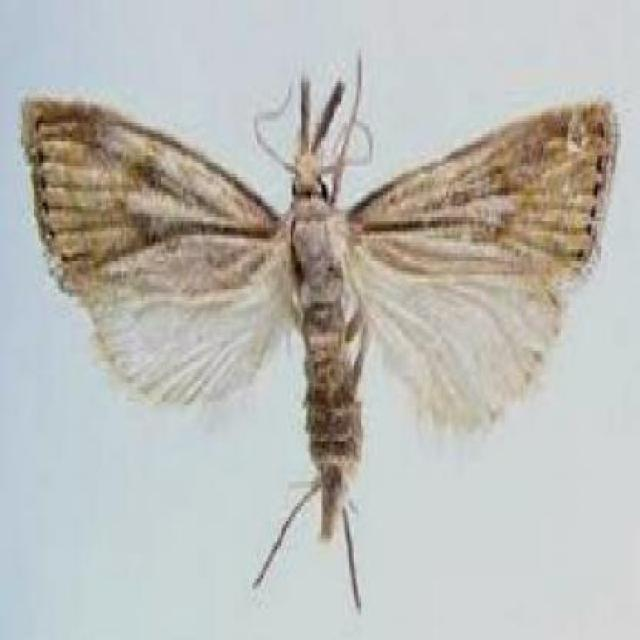stem-borer: (18, 47, 622, 613)
